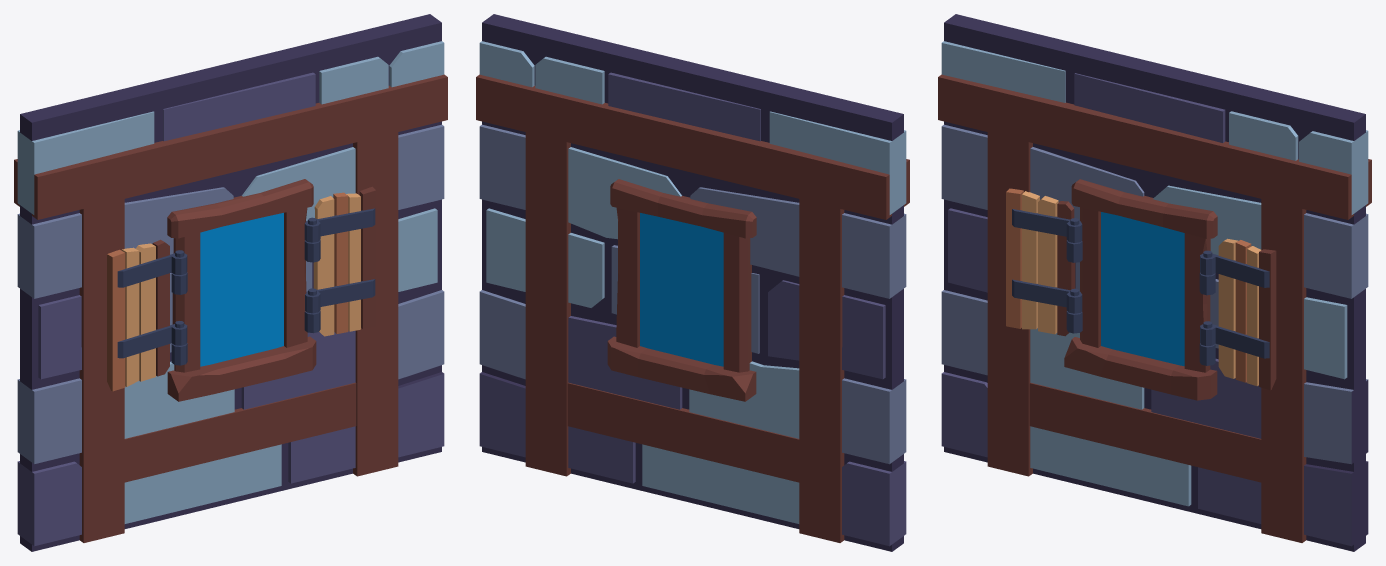
Rendered from Modular Wall 10 MK2 W2.fbx.
The picture shows the model from 3 angles, left to right: view 1: azimuth 30°, elevation 25°; view 2: azimuth 150°, elevation 25°; view 3: azimuth 330°, elevation 25°; orthographic projection.
Visible parts, largest first — view 1: Modular Wall 10 MK2 W2, WindowSiding 01.021, WindowSiding 02.021; view 2: Modular Wall 10 MK2 W2; view 3: Modular Wall 10 MK2 W2, WindowSiding 01.021, WindowSiding 02.021.
Boxes of the visible parts, bbox=[...] form: Modular Wall 10 MK2 W2: bbox=[14, 14, 447, 551]; WindowSiding 01.021: bbox=[107, 239, 187, 391]; WindowSiding 02.021: bbox=[304, 186, 376, 336]; Modular Wall 10 MK2 W2: bbox=[476, 14, 909, 551]; Modular Wall 10 MK2 W2: bbox=[938, 14, 1371, 551]; WindowSiding 01.021: bbox=[1006, 188, 1082, 336]; WindowSiding 02.021: bbox=[1200, 238, 1276, 390].
Size of the model in its own units: 400 by 400 by 66.15.
